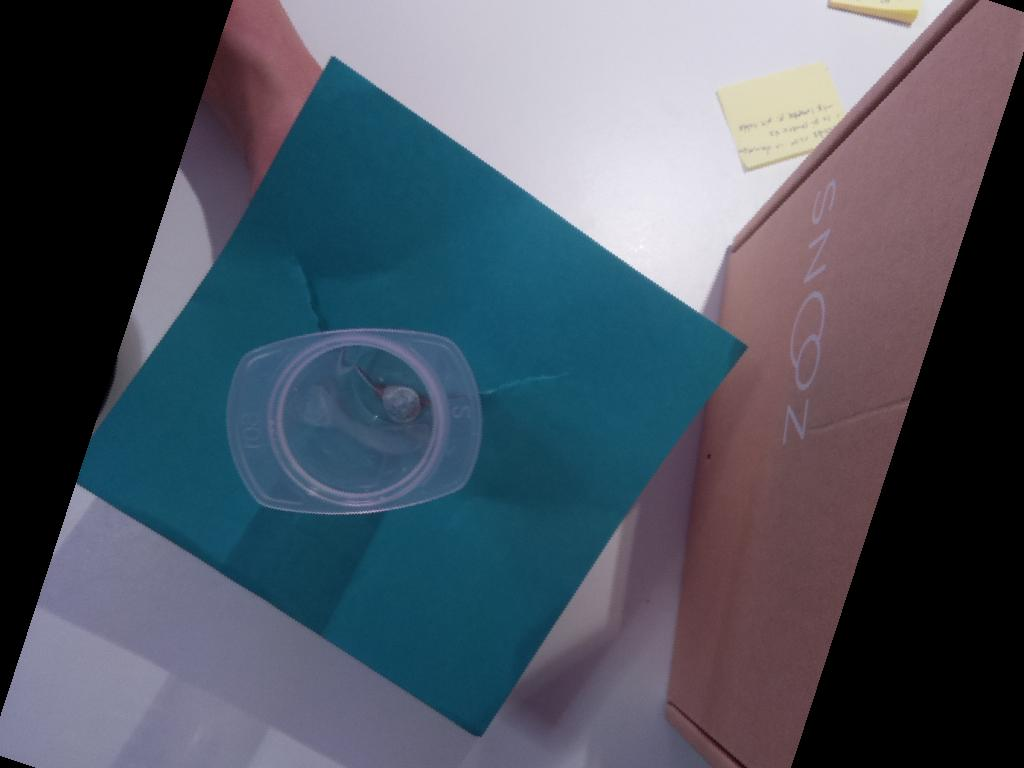clean: (223, 326, 484, 518)
